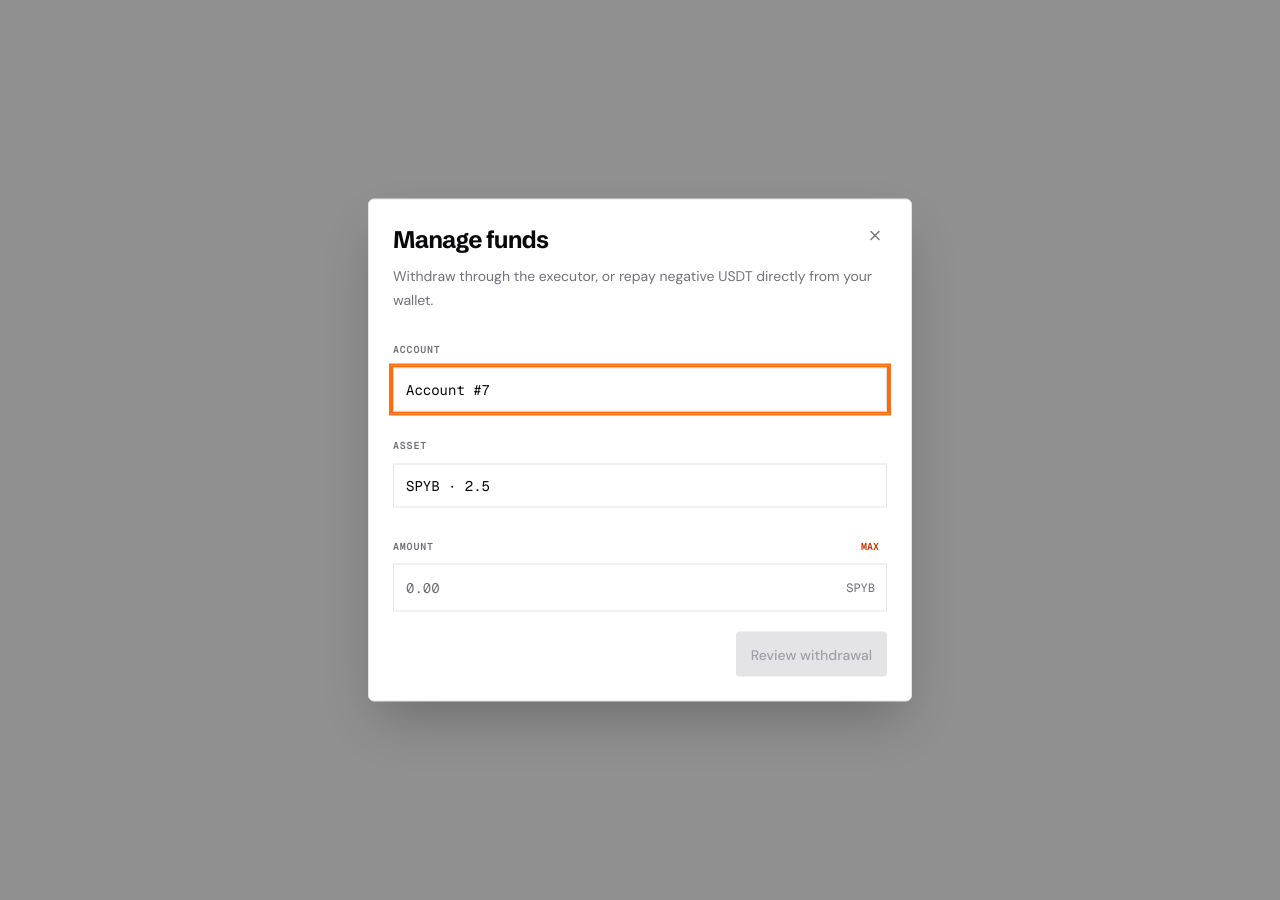
FundsModal › fetches Max from the server and renders scaled UI units at the snapshot block
Click the button "Max" at (870, 546), box [853,528,887,564]
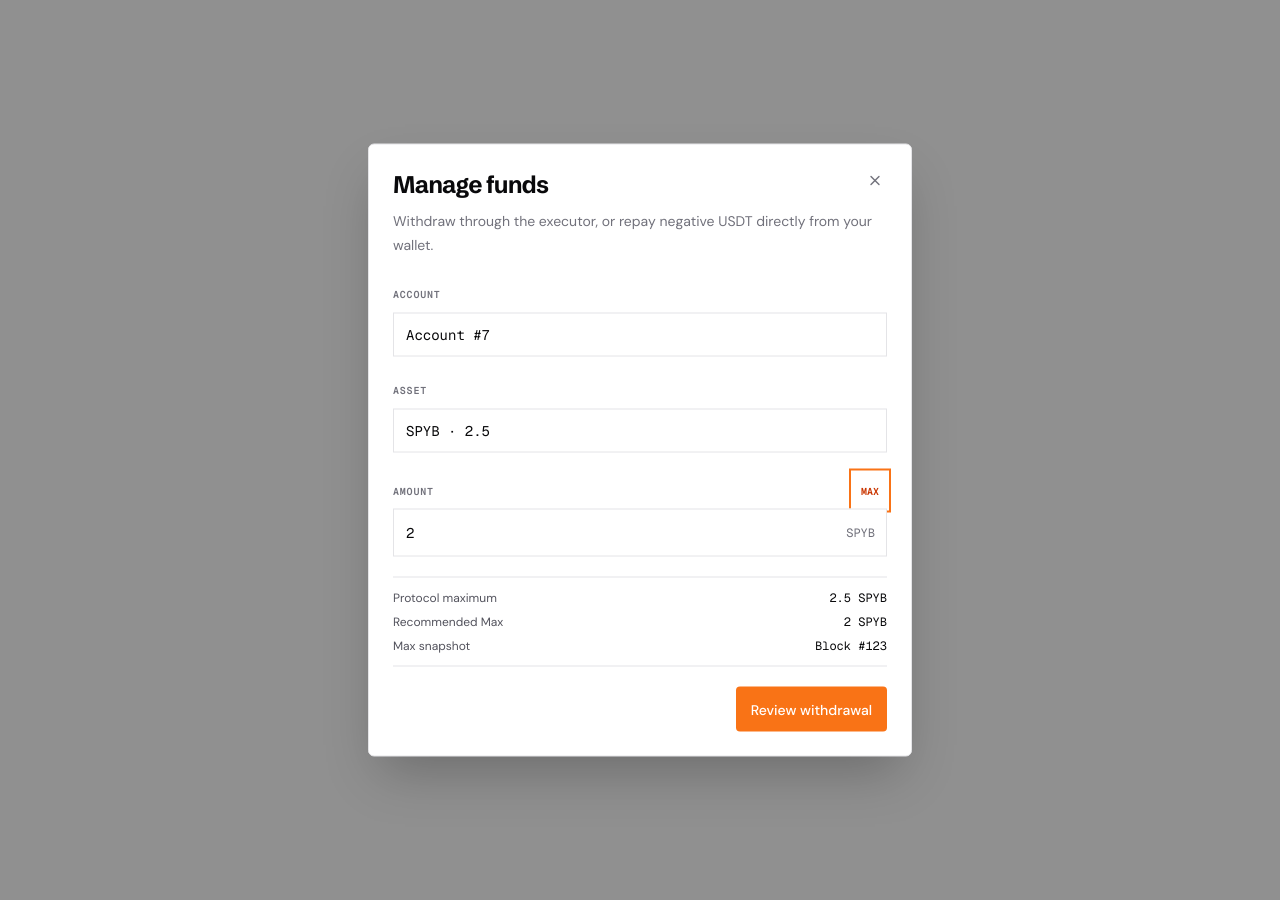
Check: the field labelled "Amount" holds "2", box [393,508,887,556]
Check: the text "2.5 SPYB" is shown, box [829,590,887,606]
Check: the text "Block #123" is shown, box [815,638,887,654]
